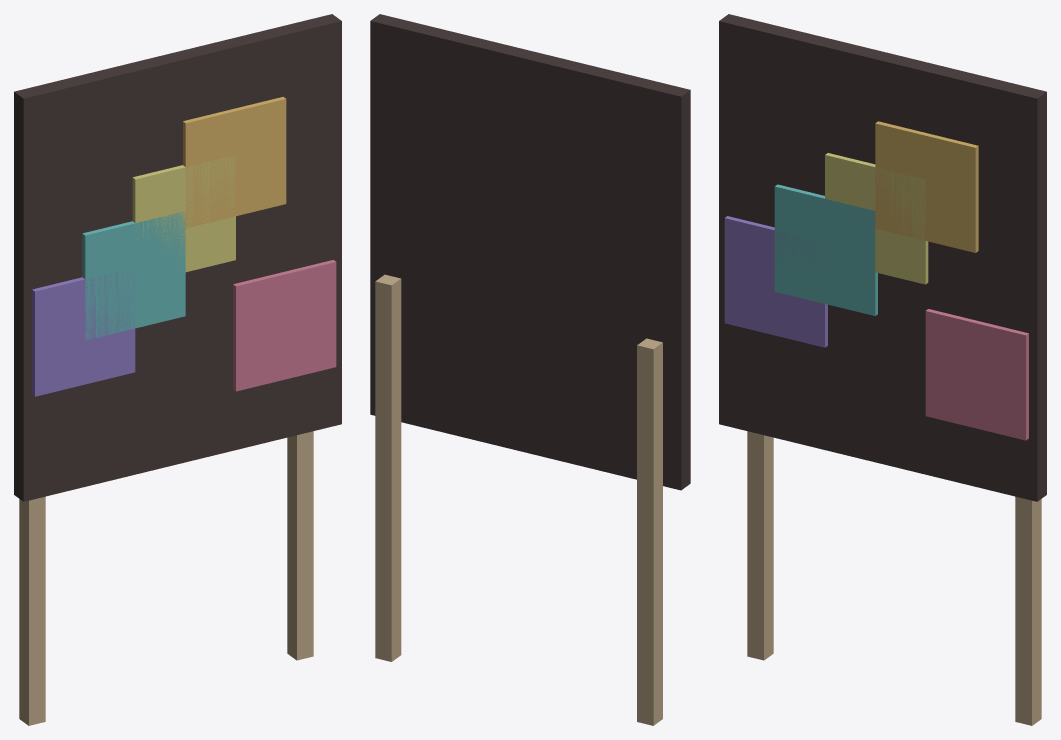
Rendered from cavalete.glb.
3 views of the same model, side by side, from view 1: azimuth 30°, elevation 25°; view 2: azimuth 150°, elevation 25°; view 3: azimuth 330°, elevation 25° (orthographic). The views are drawn at different scales.
Visible parts, largest first — view 1: Malha_0; view 2: Malha_0; view 3: Malha_0.
Boxes of the visible parts, x1,y1,x2,y2 form: Malha_0: [14, 14, 341, 725]; Malha_0: [370, 14, 690, 725]; Malha_0: [719, 14, 1046, 725].
Bounding box in the file's own units: 0.95 × 1.83 × 0.125.
